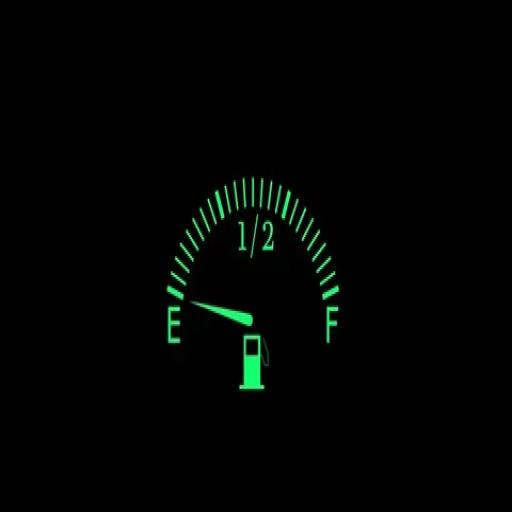empty: (164, 303, 181, 346)
fuel_icon: (239, 334, 269, 390)
full: (322, 304, 340, 345)
guage_area: (156, 170, 344, 396)
needle_center: (237, 302, 257, 331)
needle_tip: (188, 292, 211, 318)
